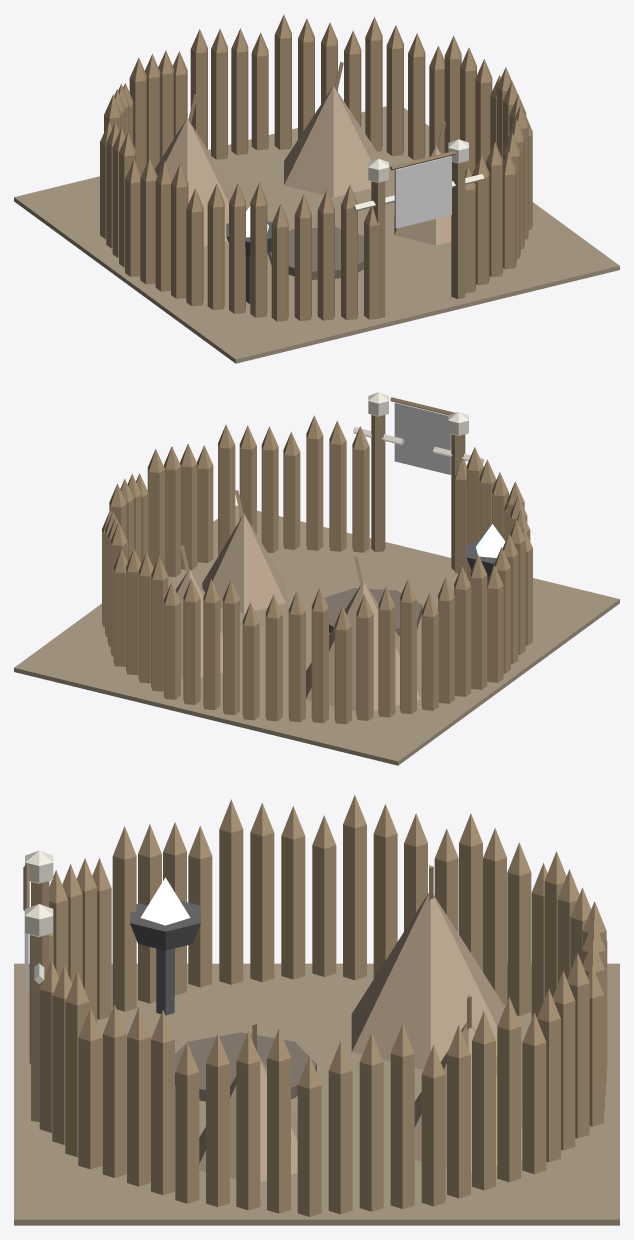
The picture shows the model from 3 angles, top to bottom: view 1: azimuth 30°, elevation 25°; view 2: azimuth 150°, elevation 25°; view 3: azimuth 270°, elevation 25°; orthographic projection. The views are drawn at different scales.
Visible parts, largest first — view 1: body; view 2: body; view 3: body.
Boxes of the visible parts, x1,y1,x2,y2 form: body: (14, 14, 619, 363); body: (14, 392, 619, 765); body: (14, 795, 619, 1225).
Bounding box in the file's own units: 9.6 × 3.85 × 9.6.
